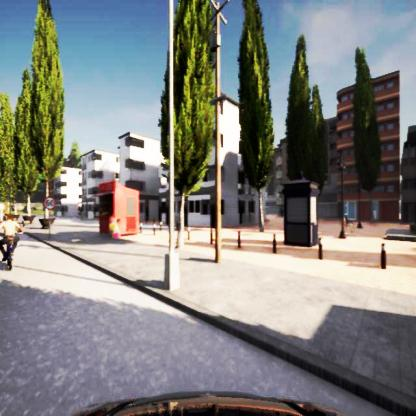bike: (0, 216, 23, 267)
